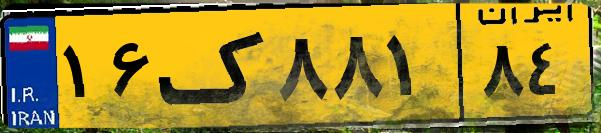1: (385, 28, 445, 110), (57, 26, 110, 100)
4: (525, 38, 570, 115)
6: (110, 28, 158, 98)
8: (270, 28, 330, 110), (330, 28, 385, 110), (475, 38, 525, 113)
ک: (158, 12, 270, 120)
